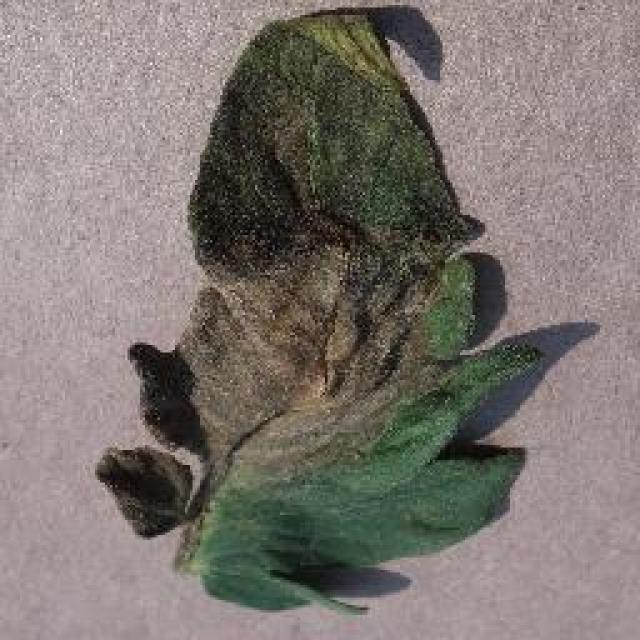Tomato Late Blight: (195, 40, 437, 498)
